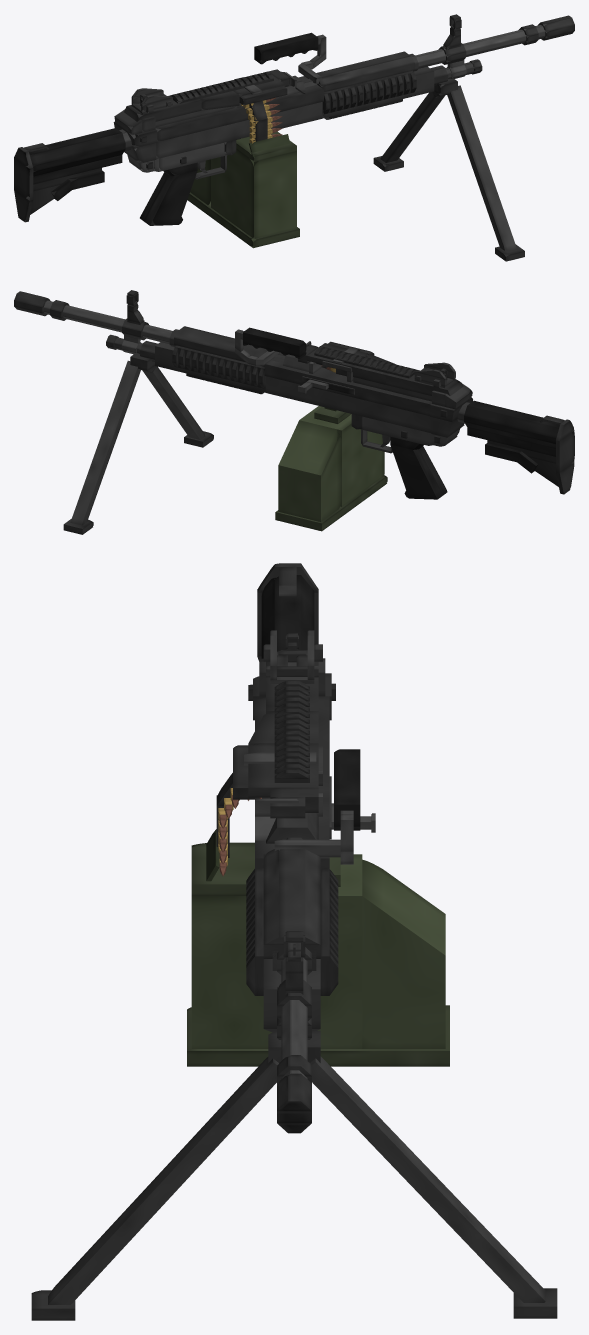
3 views of the same model, one above another, from view 1: azimuth 30°, elevation 25°; view 2: azimuth 150°, elevation 25°; view 3: azimuth 270°, elevation 25° (orthographic). The views are drawn at different scales.
Visible parts, largest first — view 1: ammoModel0, gunModel120, gunModel4, gunModel5, gunModel150, gunModel180, gunModel126, gunModel119, ammoModel2, gunModel187, gunModel51, gunModel0 (+26 smaller); view 2: ammoModel1, ammoModel0, gunModel4, gunModel119, gunModel5, gunModel150, gunModel126, gunModel120, ammoModel2, gunModel187, gunModel180, gunModel0 (+24 smaller); view 3: ammoModel0, ammoModel1, gunModel119, gunModel120, gunModel180, ammoModel2, gunModel150, ammoModel3, gunModel5, gunModel187, gunModel21, gunModel14 (+8 smaller).
Boxes of the visible parts, x1=… form: ammoModel0: x1=211, y1=138, x2=296, y2=241; gunModel120: x1=447, y1=85, x2=516, y2=250; gunModel4: x1=155, y1=102, x2=322, y2=158; gunModel5: x1=155, y1=76, x2=323, y2=141; gunModel150: x1=23, y1=128, x2=125, y2=165; gunModel180: x1=314, y1=51, x2=414, y2=85; gunModel126: x1=143, y1=170, x2=197, y2=225; gunModel119: x1=380, y1=84, x2=445, y2=165; ammoModel2: x1=187, y1=192, x2=299, y2=248; gunModel187: x1=254, y1=32, x2=318, y2=62; gunModel51: x1=322, y1=66, x2=434, y2=118; gunModel0: x1=154, y1=142, x2=227, y2=171; ammoModel1: x1=278, y1=420, x2=341, y2=521; ammoModel0: x1=299, y1=406, x2=384, y2=506; gunModel4: x1=266, y1=376, x2=431, y2=432; gunModel119: x1=70, y1=360, x2=140, y2=525; gunModel5: x1=264, y1=353, x2=431, y2=415; gunModel150: x1=464, y1=400, x2=559, y2=437; gunModel126: x1=390, y1=444, x2=437, y2=499; gunModel120: x1=142, y1=366, x2=205, y2=439; ammoModel2: x1=275, y1=475, x2=387, y2=531; gunModel187: x1=243, y1=327, x2=306, y2=356; gunModel180: x1=174, y1=326, x2=267, y2=357; gunModel0: x1=360, y1=417, x2=428, y2=445; ammoModel0: x1=191, y1=854, x2=362, y2=1048; ammoModel1: x1=362, y1=859, x2=445, y2=1048; gunModel119: x1=310, y1=1056, x2=545, y2=1302; gunModel120: x1=48, y1=1057, x2=278, y2=1304; gunModel180: x1=263, y1=849, x2=320, y2=944; ammoModel2: x1=187, y1=1005, x2=449, y2=1066; gunModel150: x1=261, y1=575, x2=314, y2=658; ammoModel3: x1=191, y1=842, x2=254, y2=895; gunModel5: x1=255, y1=696, x2=329, y2=872; gunModel187: x1=334, y1=749, x2=360, y2=826; gunModel21: x1=281, y1=958, x2=307, y2=1079; gunModel14: x1=248, y1=743, x2=318, y2=797.
Size of the model in its own units: 28.85 by 9.8 by 12.
